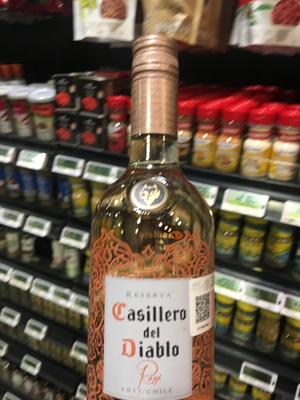casillero del diablo rose: (80, 41, 232, 400)
